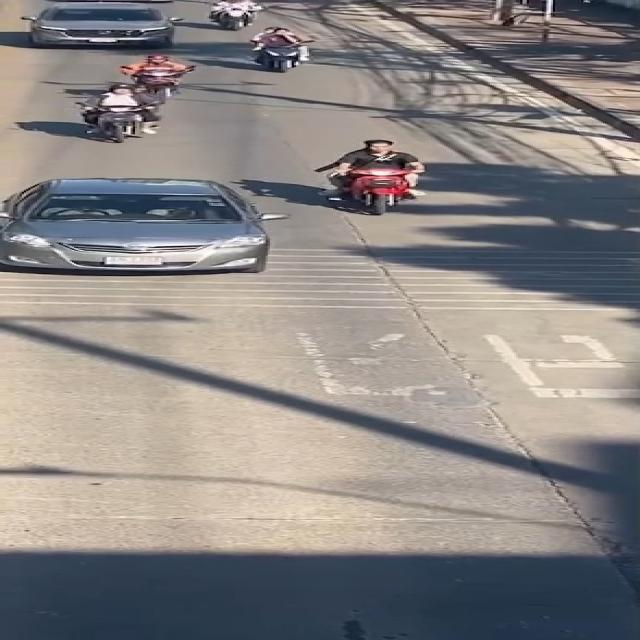car: (0, 165, 307, 285), (0, 0, 202, 52)
